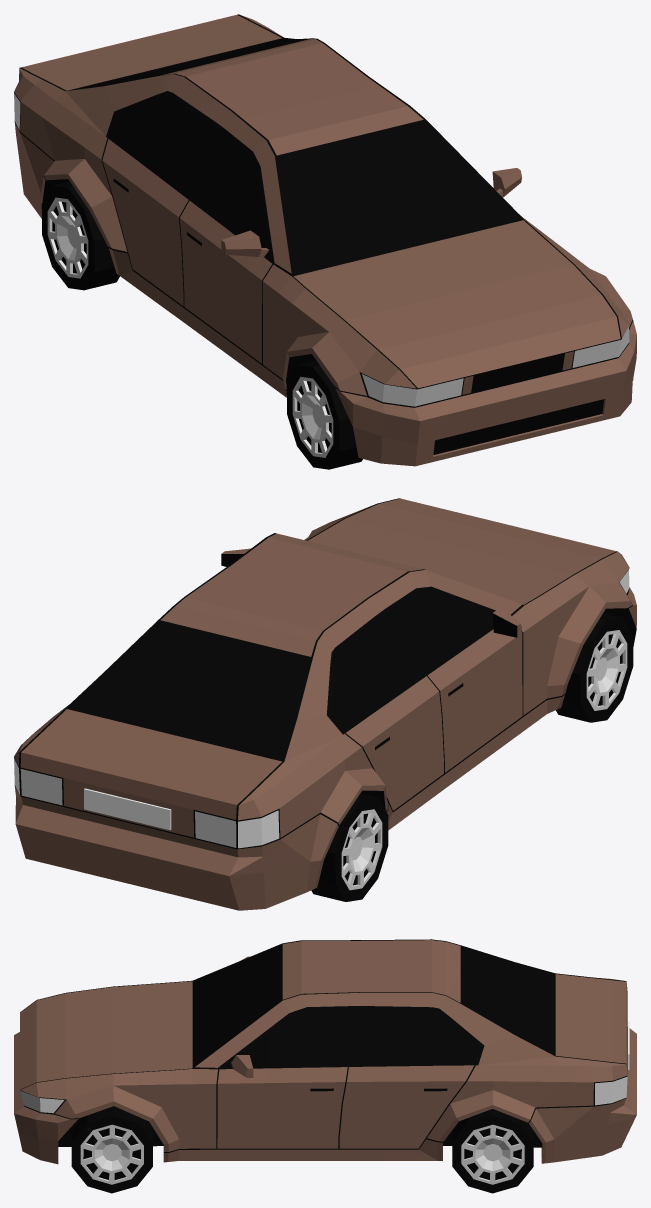
File: Sedan.glb
3 views of the same model, one above another, from view 1: azimuth 30°, elevation 25°; view 2: azimuth 150°, elevation 25°; view 3: azimuth 270°, elevation 25° (orthographic). The views are drawn at different scales.
Visible parts, largest first — view 1: Sedan; view 2: Sedan; view 3: Sedan.
Part boxes in pixels (x1,y1,x2,y2): Sedan: (14, 14, 636, 469); Sedan: (14, 498, 636, 910); Sedan: (14, 939, 636, 1193).
Size of the model in its own units: 3.22 by 2.3 by 7.56.
